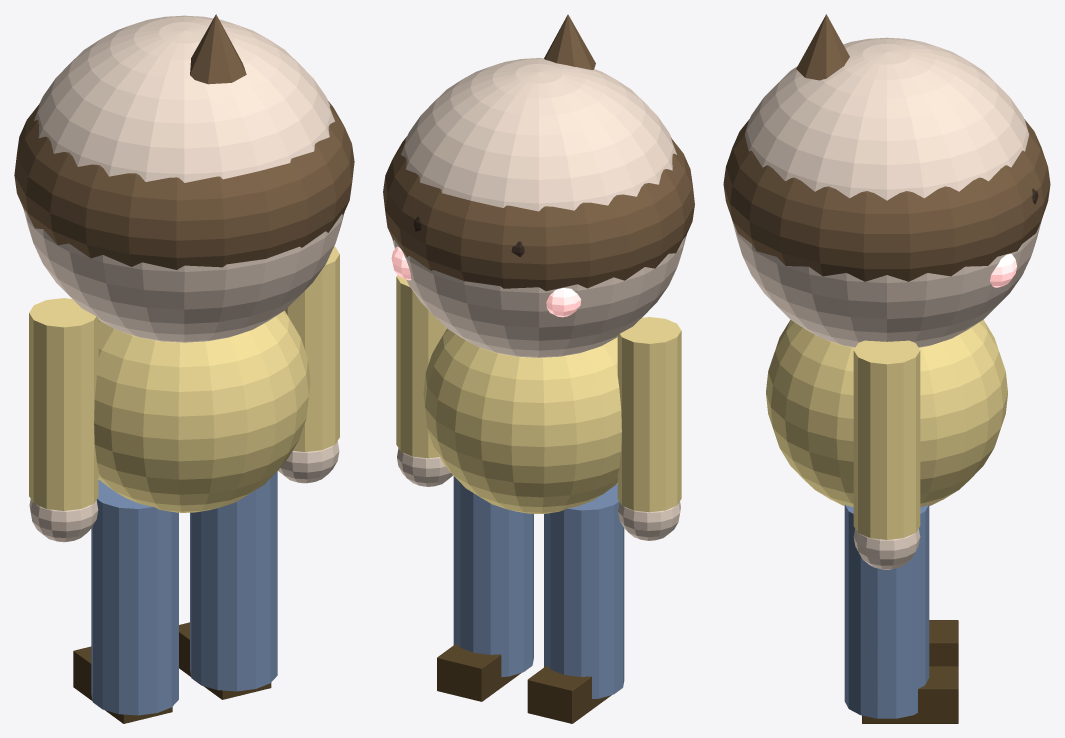
Rendered from chibi_child.glb.
The picture shows the model from 3 angles, left to right: view 1: azimuth 30°, elevation 25°; view 2: azimuth 150°, elevation 25°; view 3: azimuth 270°, elevation 25°; orthographic projection. The views are drawn at different scales.
Visible parts, largest first — view 1: chibi_child; view 2: chibi_child; view 3: chibi_child.
Boxes of the visible parts, x1=… form: chibi_child: x1=14, y1=14, x2=354, y2=723; chibi_child: x1=383, y1=14, x2=694, y2=723; chibi_child: x1=723, y1=14, x2=1050, y2=723.
Size of the model in its own units: 0.429 by 0.96 by 0.4212.
